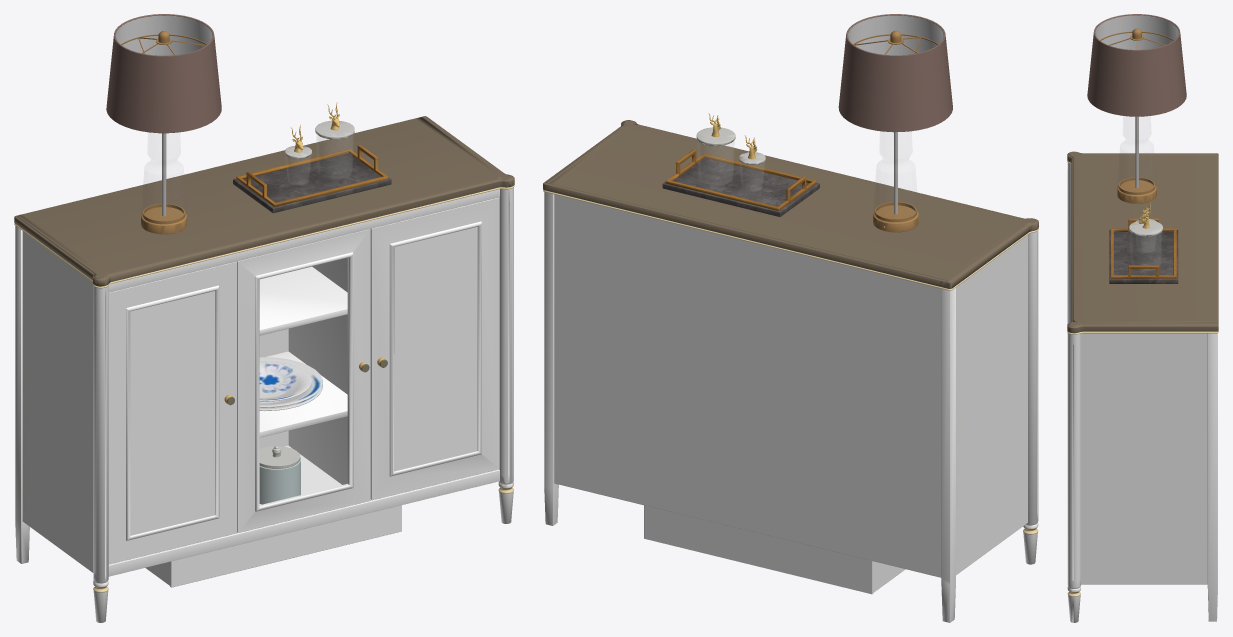
The model's file is sideboard_european_style_dining_cabinet_dailyart.glb.
3 views of the same model, side by side, from view 1: azimuth 30°, elevation 25°; view 2: azimuth 150°, elevation 25°; view 3: azimuth 270°, elevation 25° (orthographic). The views are drawn at different scales.
Parts seen in each view (by area): view 1: Object_6, Object_21; view 2: Object_6, Object_21; view 3: Object_6, Object_21.
Part boxes in pixels (x1,y1,x2,y2): Object_6: (14, 14, 514, 622); Object_21: (286, 135, 352, 184); Object_6: (543, 14, 1038, 622); Object_21: (698, 142, 764, 190); Object_6: (1067, 14, 1218, 622); Object_21: (1130, 233, 1161, 269).
Bounding box in the file's own units: 153 × 187 × 55.46.
Materials: 2 (2 with a texture image).
